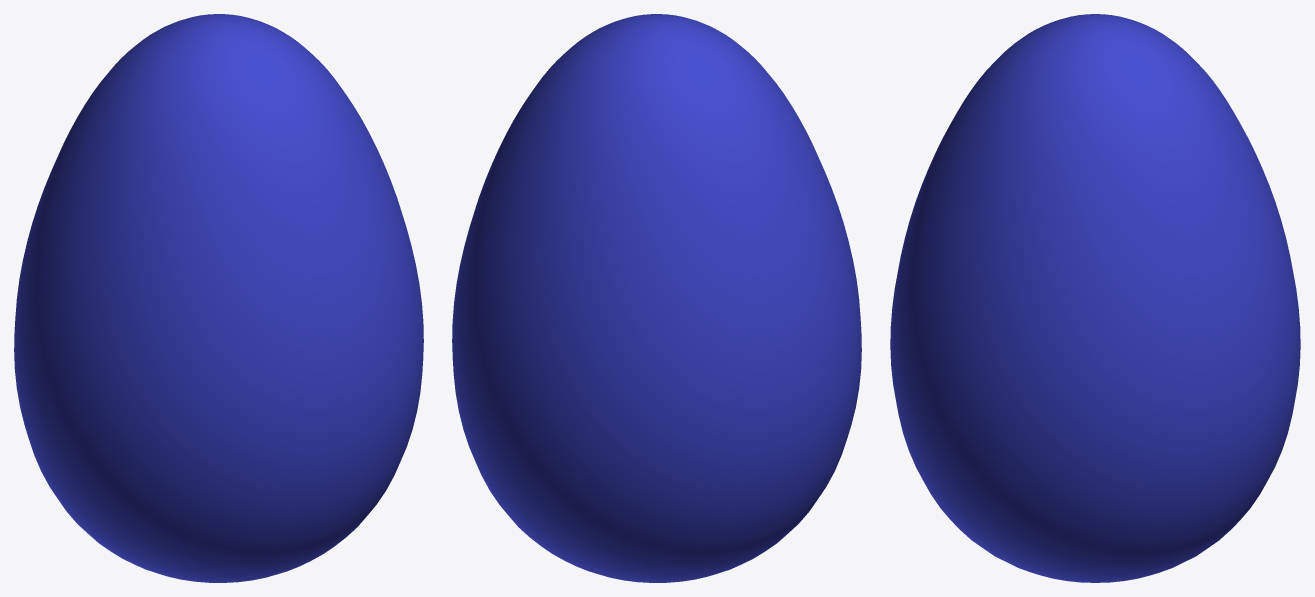
File: egg_2.glb
3 views of the same model, side by side, from view 1: azimuth 30°, elevation 25°; view 2: azimuth 150°, elevation 25°; view 3: azimuth 270°, elevation 25° (orthographic).
Parts seen in each view (by area): view 1: node_id91; view 2: node_id91; view 3: node_id91.
Part boxes in pixels (x1,y1,x2,y2): node_id91: [14, 14, 423, 582]; node_id91: [452, 14, 861, 582]; node_id91: [890, 14, 1300, 582].
Size of the model in its own units: 0.2417 by 0.3508 by 0.2417.
Materials: 1 (1 with a texture image).
